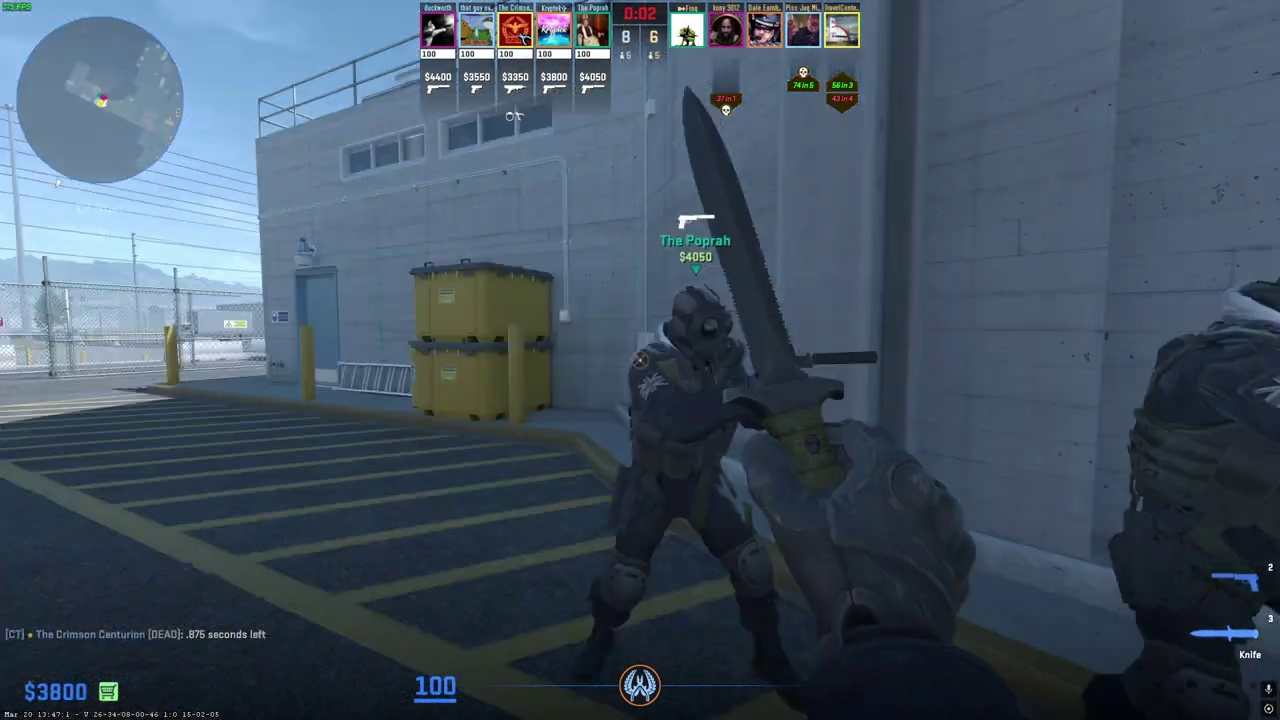CT: (592, 284, 792, 687), (1111, 275, 1280, 720)
